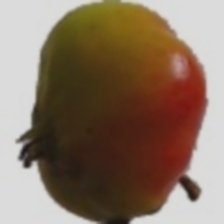apple: (3, 24, 197, 223)
